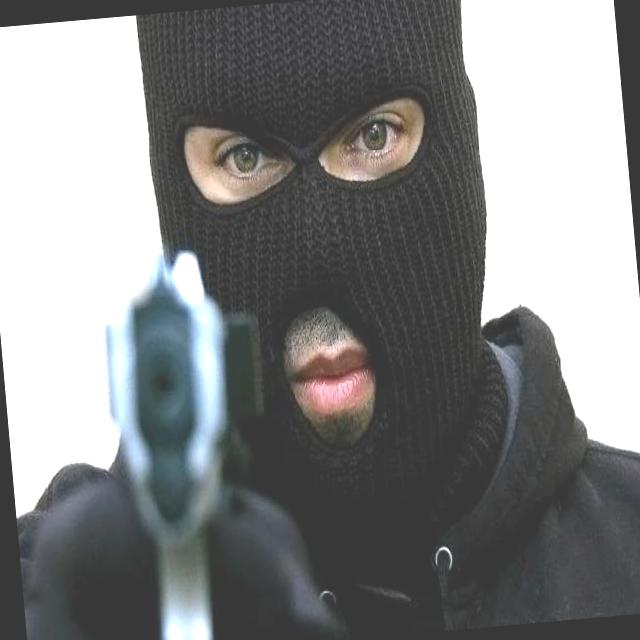handgun: (100, 232, 248, 639)
